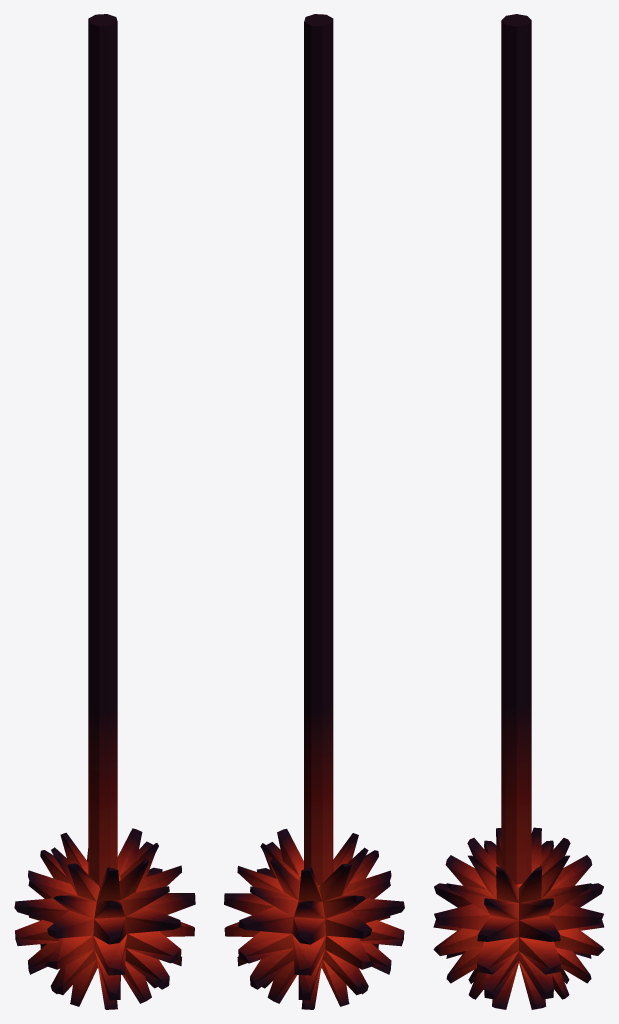
The model's file is oursin_02.fbx.
3 views of the same model, side by side, from view 1: azimuth 30°, elevation 25°; view 2: azimuth 150°, elevation 25°; view 3: azimuth 270°, elevation 25° (orthographic).
Parts seen in each view (by area): view 1: polySurface_tige, polySurface_oursin1_8 (×4), polySurface_oursin1_9 (×3); view 2: polySurface_tige, polySurface_oursin1_9 (×4), polySurface_oursin1_8 (×3); view 3: polySurface_tige, polySurface_oursin1_9 (×4), polySurface_oursin1_8 (×4).
Part boxes in pixels (bbox=[...]): polySurface_tige: bbox=[88, 14, 117, 888]; polySurface_oursin1_8 (×4): bbox=[28, 828, 181, 1006]; polySurface_oursin1_9 (×3): bbox=[14, 843, 195, 1009]; polySurface_tige: bbox=[304, 14, 333, 885]; polySurface_oursin1_9 (×4): bbox=[238, 828, 390, 1006]; polySurface_oursin1_8 (×3): bbox=[224, 843, 404, 1009]; polySurface_tige: bbox=[501, 14, 531, 884]; polySurface_oursin1_9 (×4): bbox=[433, 827, 604, 1009]; polySurface_oursin1_8 (×4): bbox=[433, 828, 604, 1009].
Bounding box in the file's own units: 1.01 × 6.31 × 1.01.
